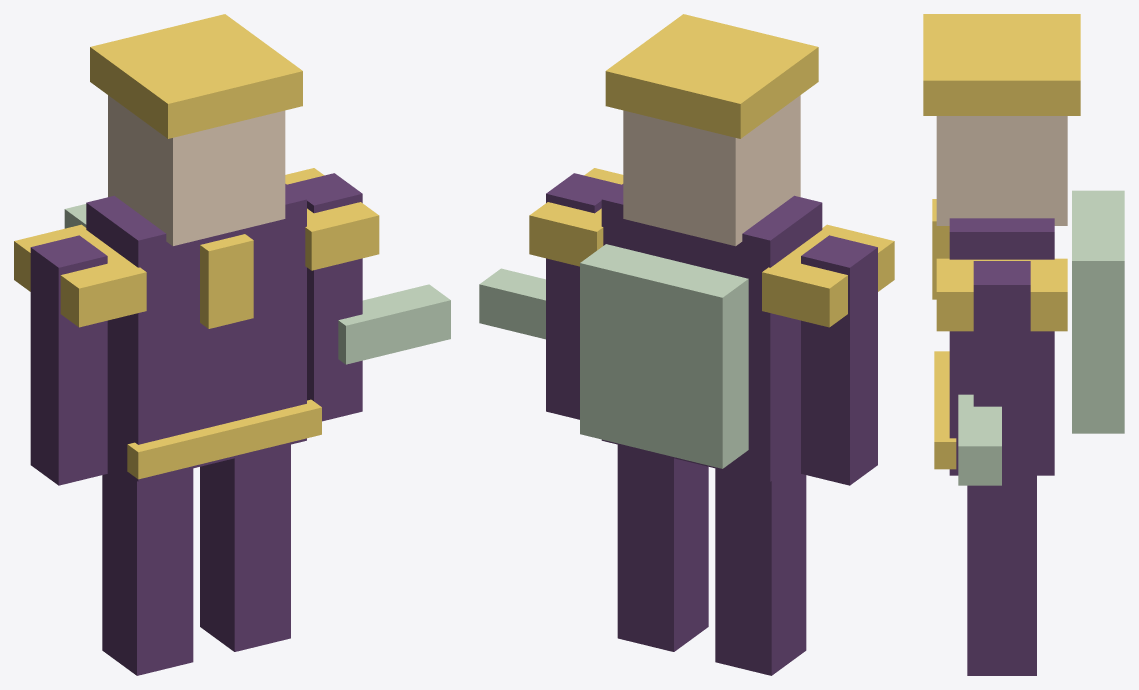
Rendered from 17_nix_stormhush_specialist_of_pawn.glb.
The picture shows the model from 3 angles, left to right: view 1: azimuth 30°, elevation 25°; view 2: azimuth 150°, elevation 25°; view 3: azimuth 270°, elevation 25°; orthographic projection.
Visible parts, largest first — view 1: Nix Stormhush, Specialist of Pawn; view 2: Nix Stormhush, Specialist of Pawn; view 3: Nix Stormhush, Specialist of Pawn.
Part boxes in pixels (x1,y1,x2,y2): Nix Stormhush, Specialist of Pawn: (14,14,450,675); Nix Stormhush, Specialist of Pawn: (479,14,894,675); Nix Stormhush, Specialist of Pawn: (923,14,1124,675).
Size of the model in its own units: 1.01 by 1.47 by 0.4544.
